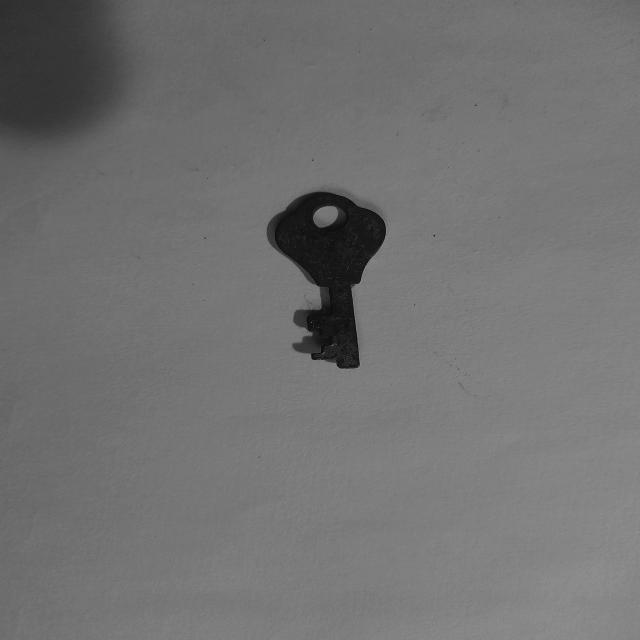KEY: (275, 192, 385, 369)
